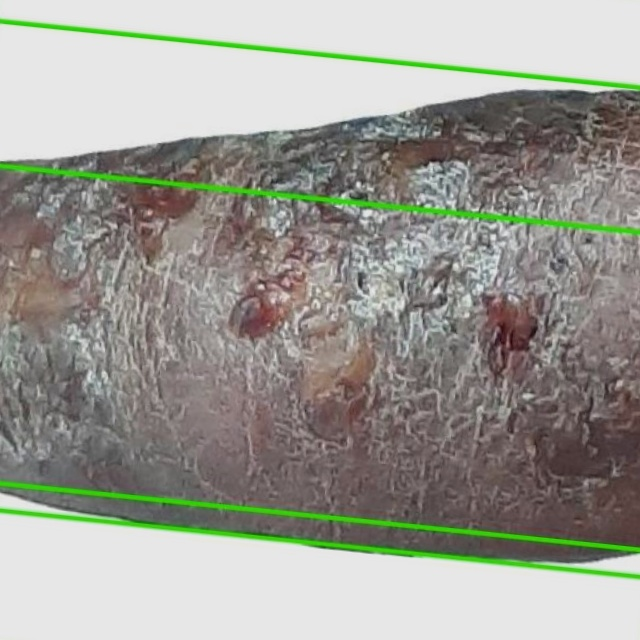Eczema: (0, 21, 639, 576), (0, 0, 639, 231), (0, 483, 639, 639)
